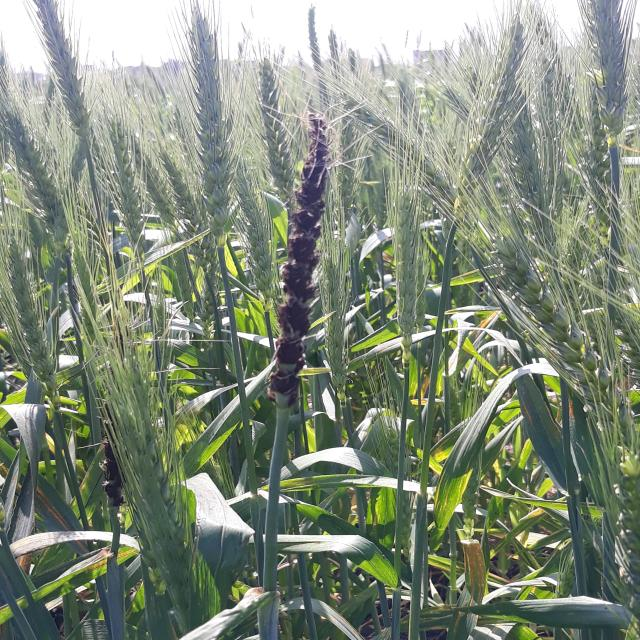loose_charred: (251, 118, 371, 434), (75, 413, 148, 533)
yellow_rust: (9, 448, 85, 560), (436, 532, 506, 610), (427, 463, 480, 535), (486, 526, 576, 560), (83, 544, 148, 574), (518, 494, 578, 525), (514, 383, 550, 429), (407, 360, 441, 407), (466, 309, 509, 345), (428, 438, 466, 470), (560, 389, 589, 425), (450, 343, 488, 368)
